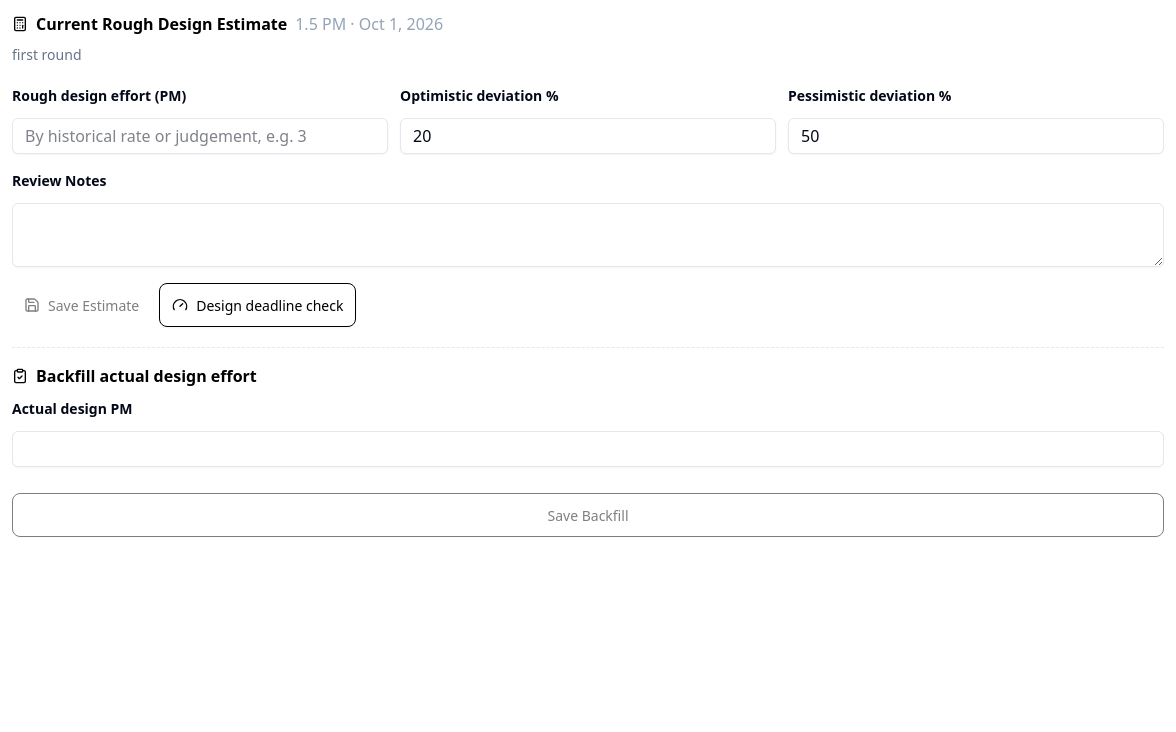
DesignEstimationPanel backfill (IP-07a / C11 / C12) › R07: negative deviation is rejected before submit with a visible message
Expected: the text "Current Rough Design Estimate" is shown, x1=36 y1=12 x2=287 y2=36
Type "1" into the number field labelled "Rough design effort (PM)" at (200, 136), box x1=12 y1=118 x2=388 y2=154
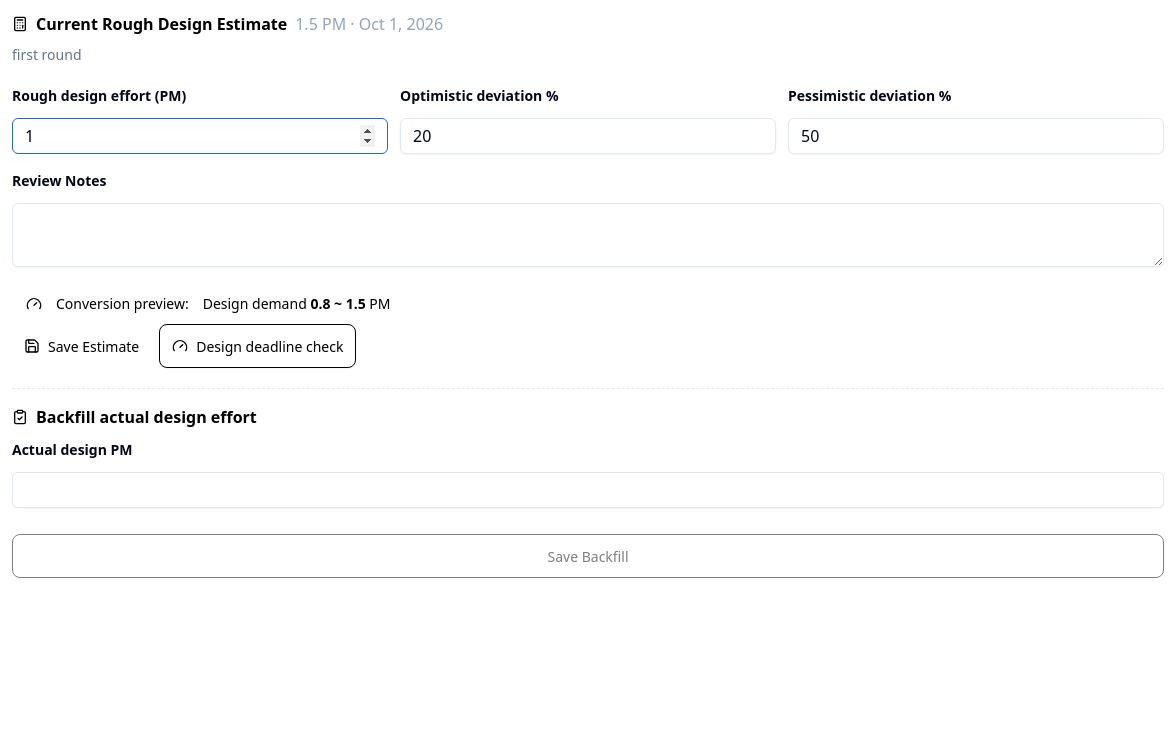
Replace the text in the number field labelled "Optimistic deviation %" with "-5" at (588, 136), box x1=400 y1=118 x2=776 y2=154
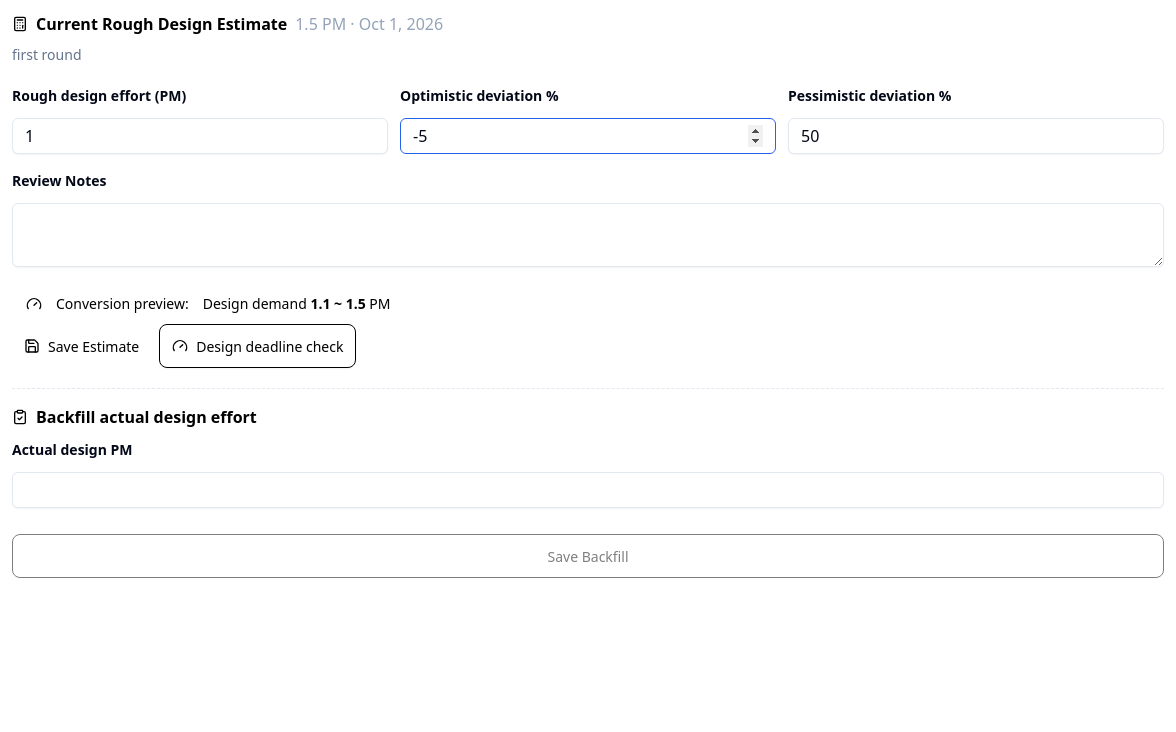
Click the button "Save Estimate" at (82, 346), box x1=12 y1=324 x2=151 y2=368
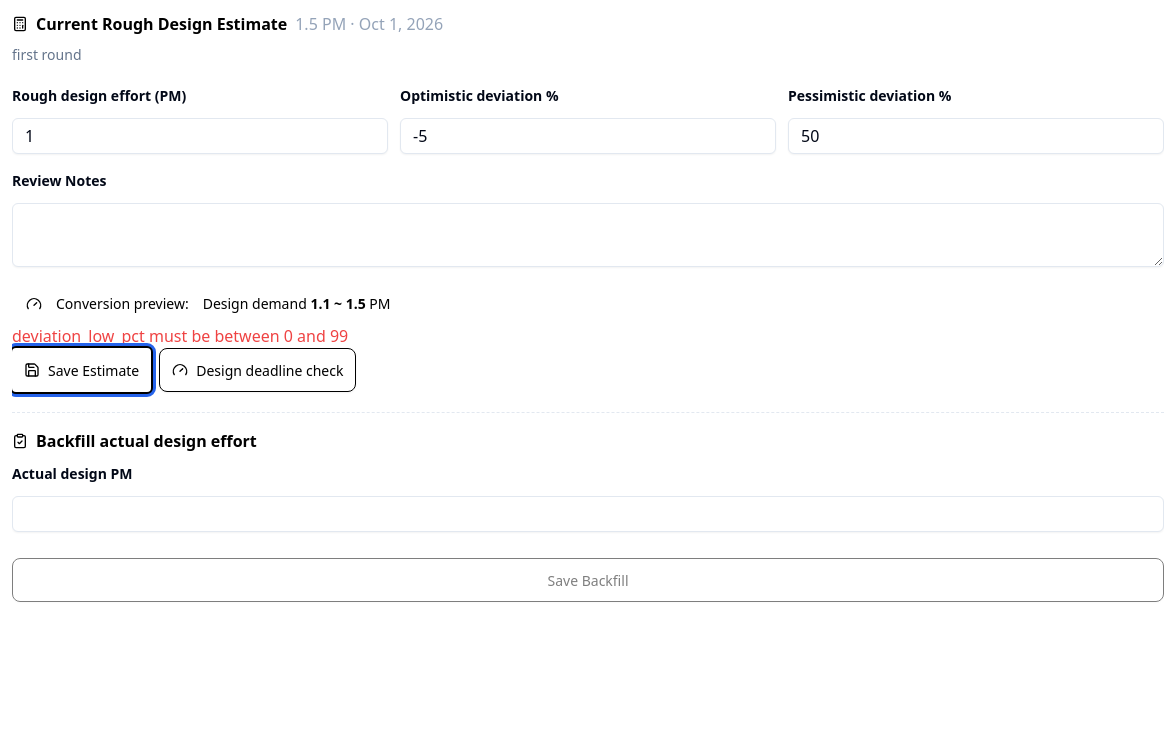
Result: the text "deviation_low_pct must be between 0 and 99" is shown at x1=12 y1=325 x2=348 y2=347
